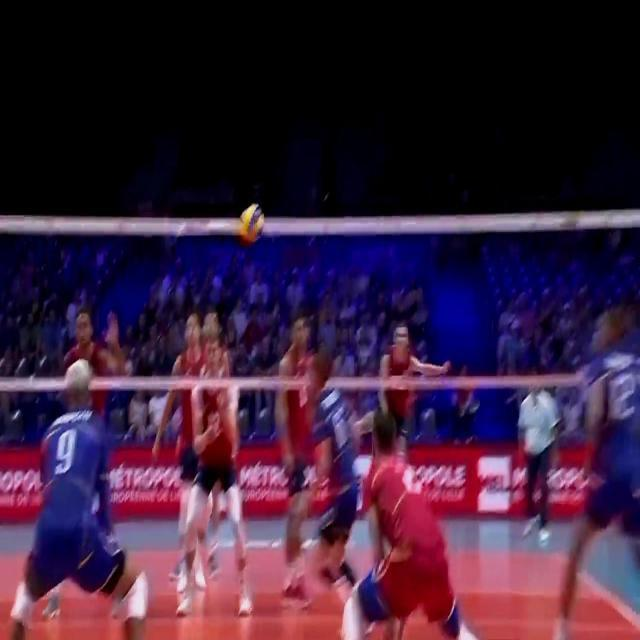volleyball: (240, 204, 264, 242)
